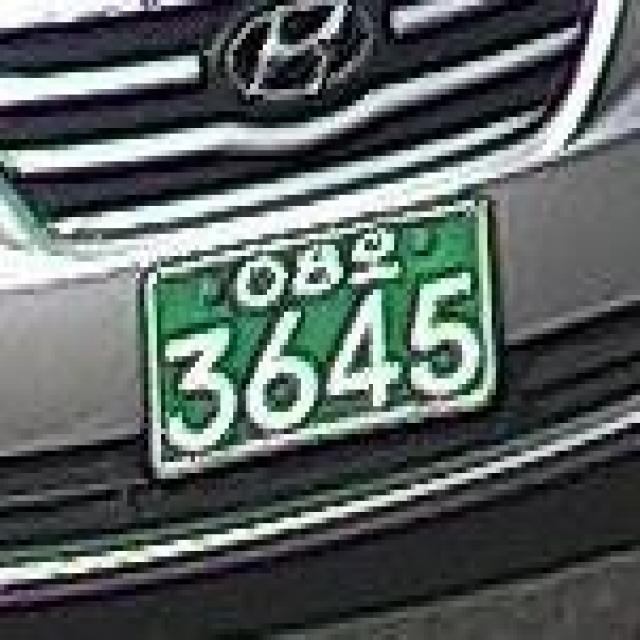illegal_plate: (127, 184, 516, 492)
